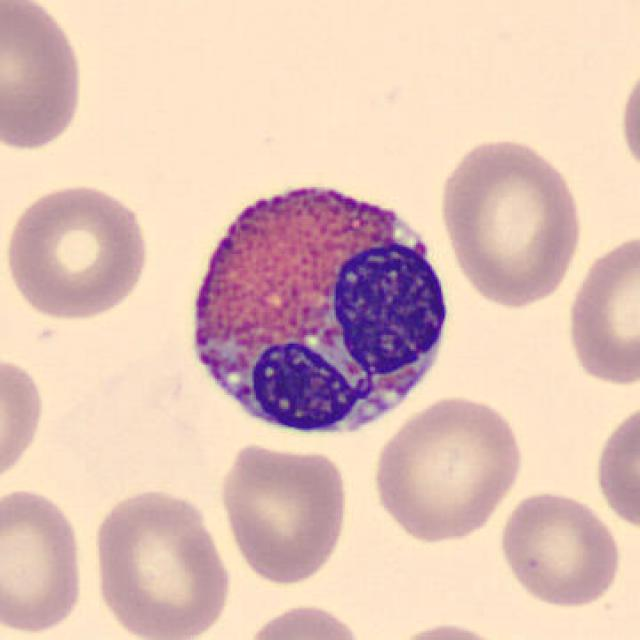Eosinophil: (172, 162, 464, 452)
RBC: (434, 132, 586, 310), (368, 392, 528, 546), (87, 483, 237, 640), (0, 178, 155, 323), (215, 439, 354, 587), (494, 487, 624, 610), (0, 483, 89, 637), (0, 2, 89, 155), (562, 228, 638, 392), (0, 349, 48, 494), (590, 397, 638, 538), (240, 599, 368, 640), (615, 51, 640, 187), (380, 617, 518, 640)
